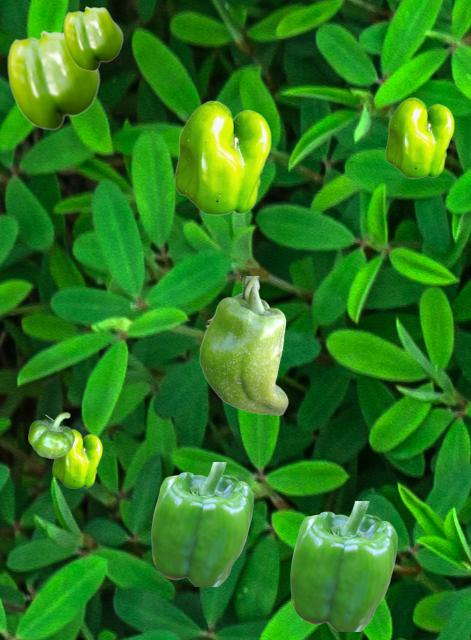bell_pepper: (290, 501, 396, 630), (151, 462, 252, 585), (199, 276, 287, 414), (174, 100, 270, 214), (7, 30, 99, 129), (385, 97, 453, 177), (63, 6, 122, 70), (52, 429, 101, 487), (28, 412, 73, 457)
